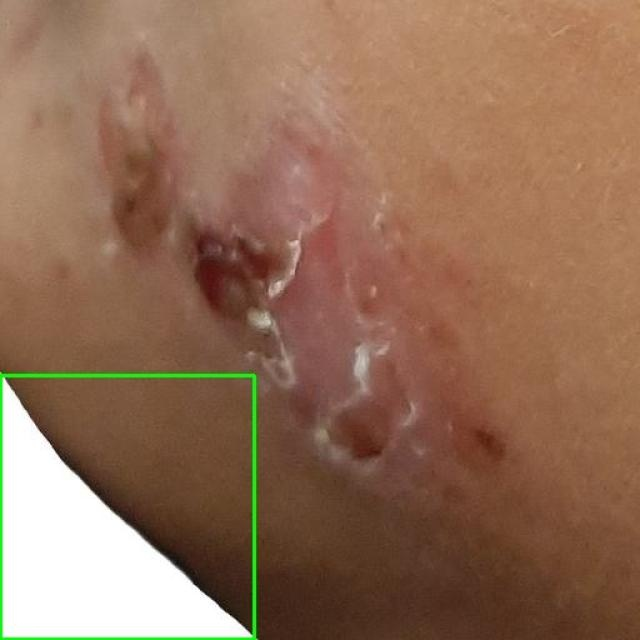Contact Dermatitis: (0, 375, 254, 639)
